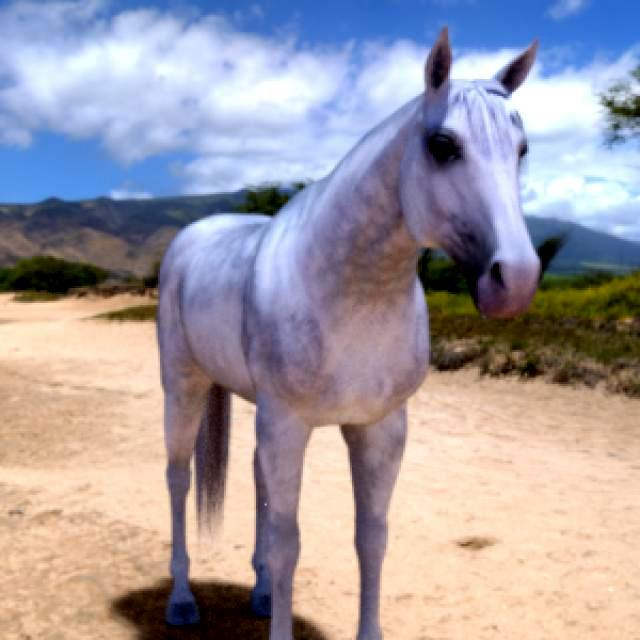horse: (158, 29, 540, 640)
